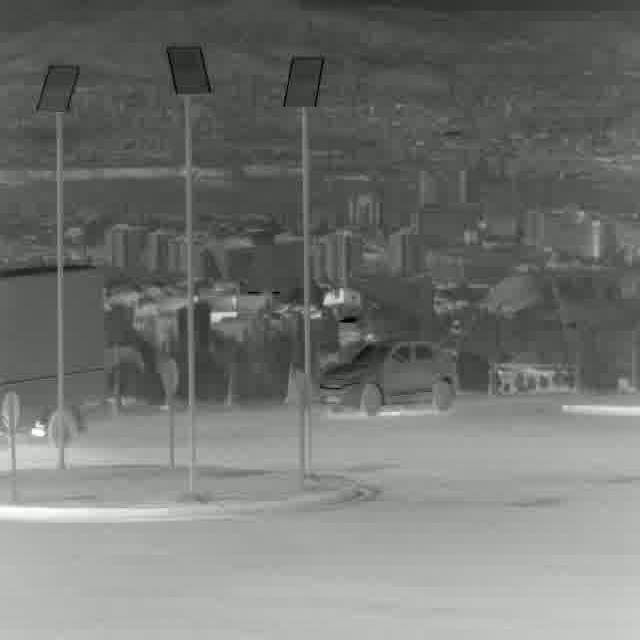Car: (0, 267, 105, 444), (319, 341, 457, 415)
